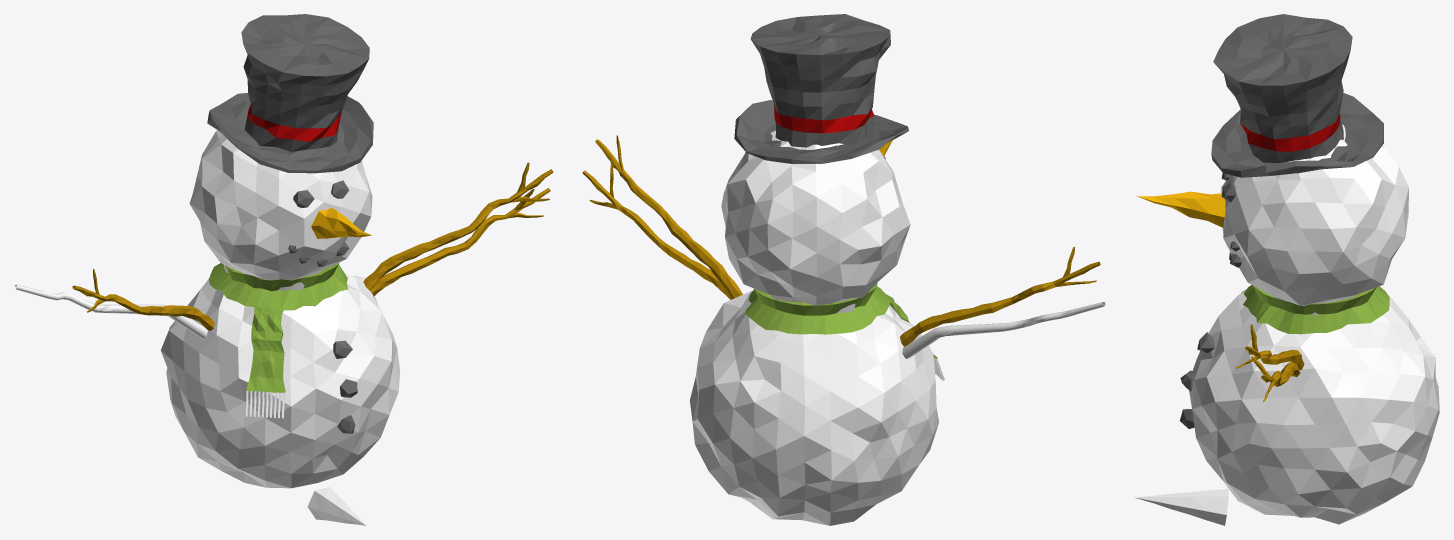
File: Snowman.gltf
3 views of the same model, side by side, from view 1: azimuth 30°, elevation 25°; view 2: azimuth 150°, elevation 25°; view 3: azimuth 270°, elevation 25° (orthographic). The views are drawn at different scales.
Visible parts, largest first — view 1: node-0; view 2: node-0; view 3: node-0.
Part boxes in pixels (left/top/right/bottom): node-0: left=14, top=14, right=553, bottom=525; node-0: left=582, top=14, right=1105, bottom=525; node-0: left=1134, top=14, right=1439, bottom=525.
Size of the model in its own units: 260 by 221 by 126.
